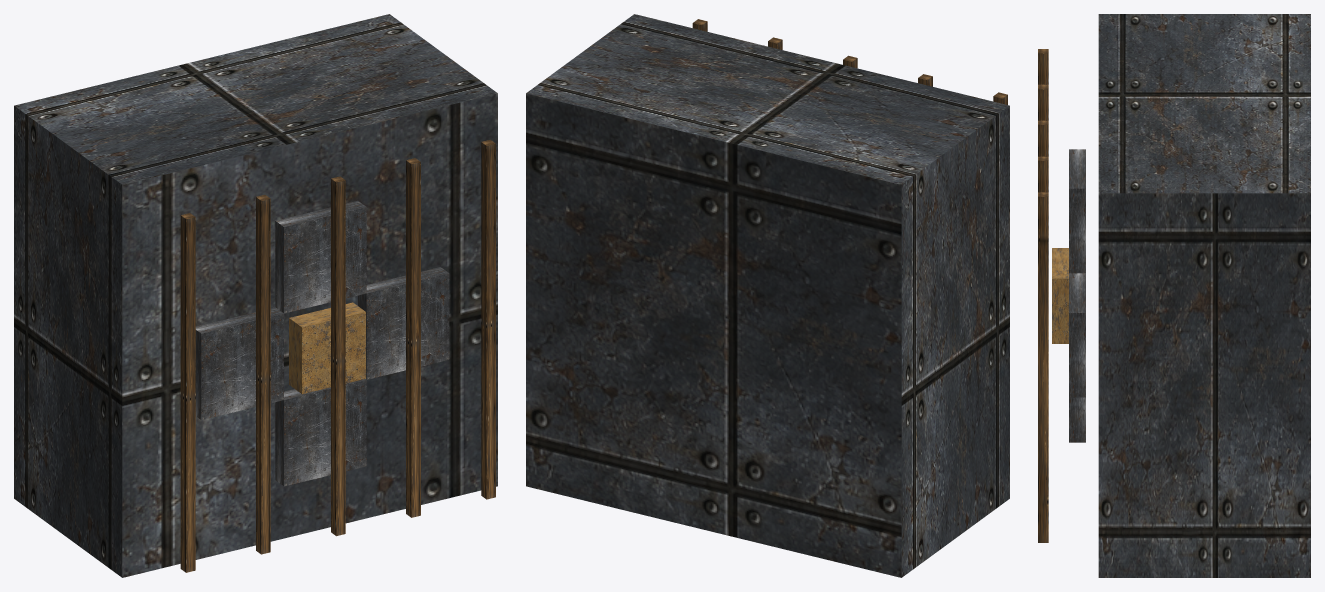
The model's file is fan.obj.
3 renders of one model, left to right at view 1: azimuth 30°, elevation 25°; view 2: azimuth 150°, elevation 25°; view 3: azimuth 270°, elevation 25°, orthographic. The views are drawn at different scales.
Parts seen in each view (by area): view 1: fan; view 2: fan; view 3: fan.
Part boxes in pixels (left/top/right/bottom): fan: left=14, top=14, right=497, bottom=577; fan: left=526, top=14, right=1009, bottom=577; fan: left=1038, top=14, right=1310, bottom=577.
Size of the model in its own units: 1 by 1 by 0.6425.
1 material, 1 textured.
